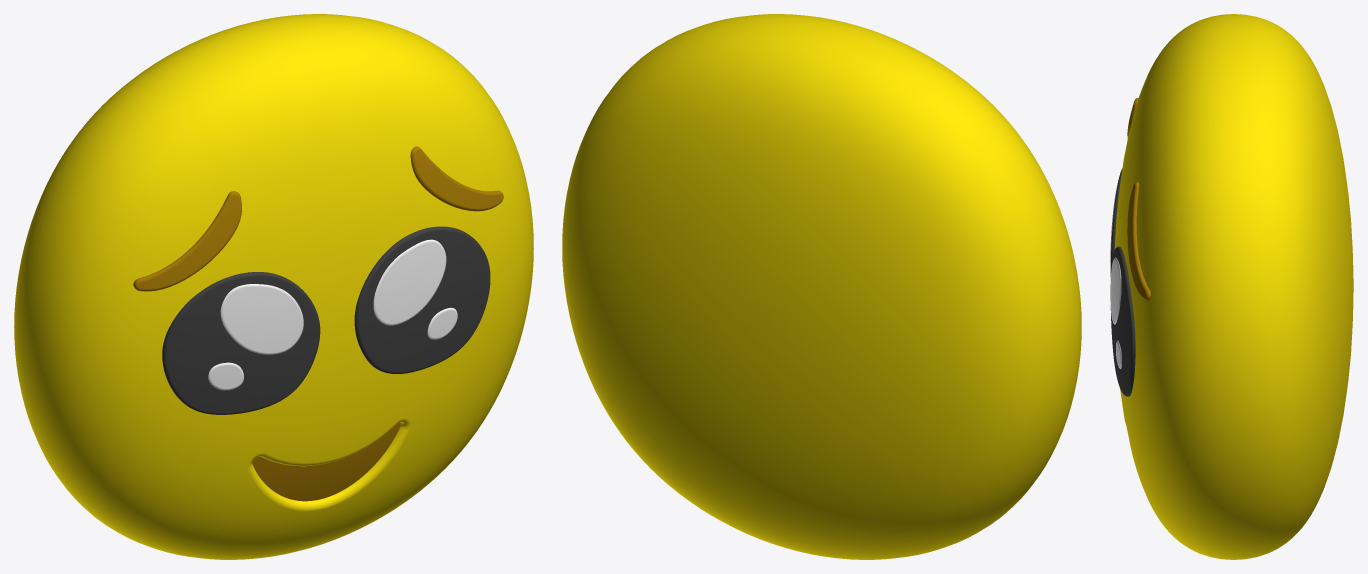
3 views of the same model, side by side, from view 1: azimuth 30°, elevation 25°; view 2: azimuth 150°, elevation 25°; view 3: azimuth 270°, elevation 25° (orthographic). The views are drawn at different scales.
Visible parts, largest first — view 1: 015_SmileEmoji_F; view 2: 015_SmileEmoji_F; view 3: 015_SmileEmoji_F.
Part boxes in pixels (x1,y1,x2,y2): 015_SmileEmoji_F: (14,14,533,559); 015_SmileEmoji_F: (562,14,1081,559); 015_SmileEmoji_F: (1110,14,1353,559).
Size of the model in its own units: 0.1561 by 0.1561 by 0.0706.
